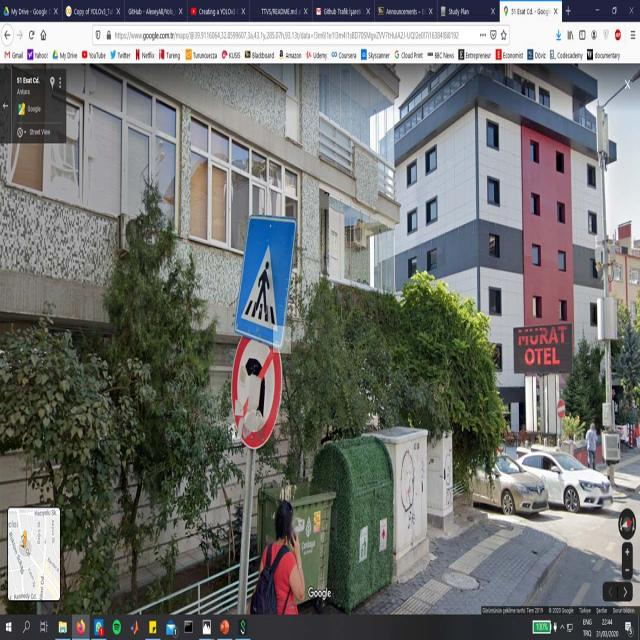soladonulmez: (233, 331, 281, 448)
